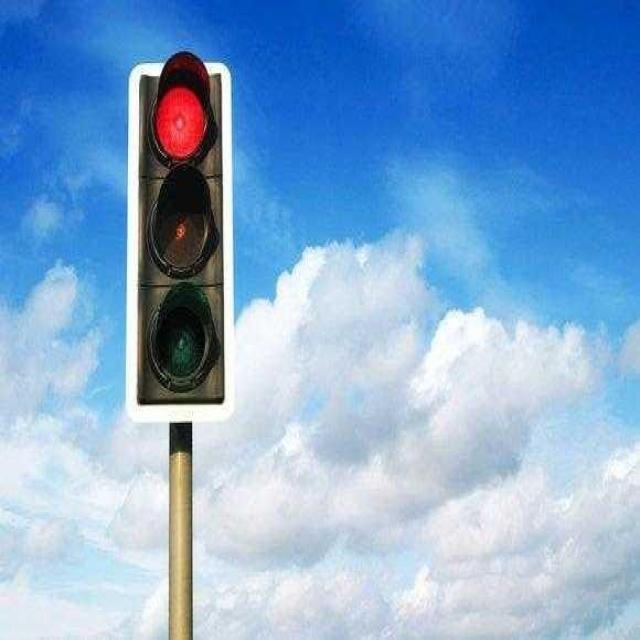Traffic Light -Red-: (126, 55, 236, 427)
